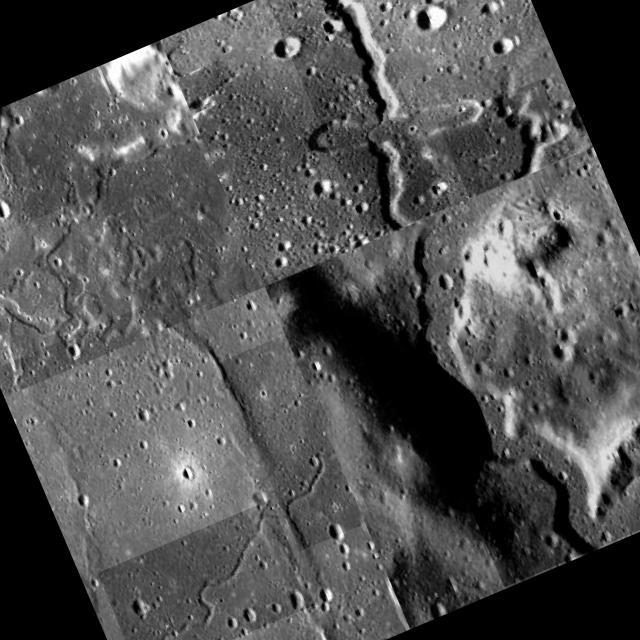crater: (361, 150, 640, 587), (266, 0, 452, 240), (221, 334, 366, 550), (99, 499, 316, 640), (0, 193, 145, 369), (439, 78, 577, 198)
